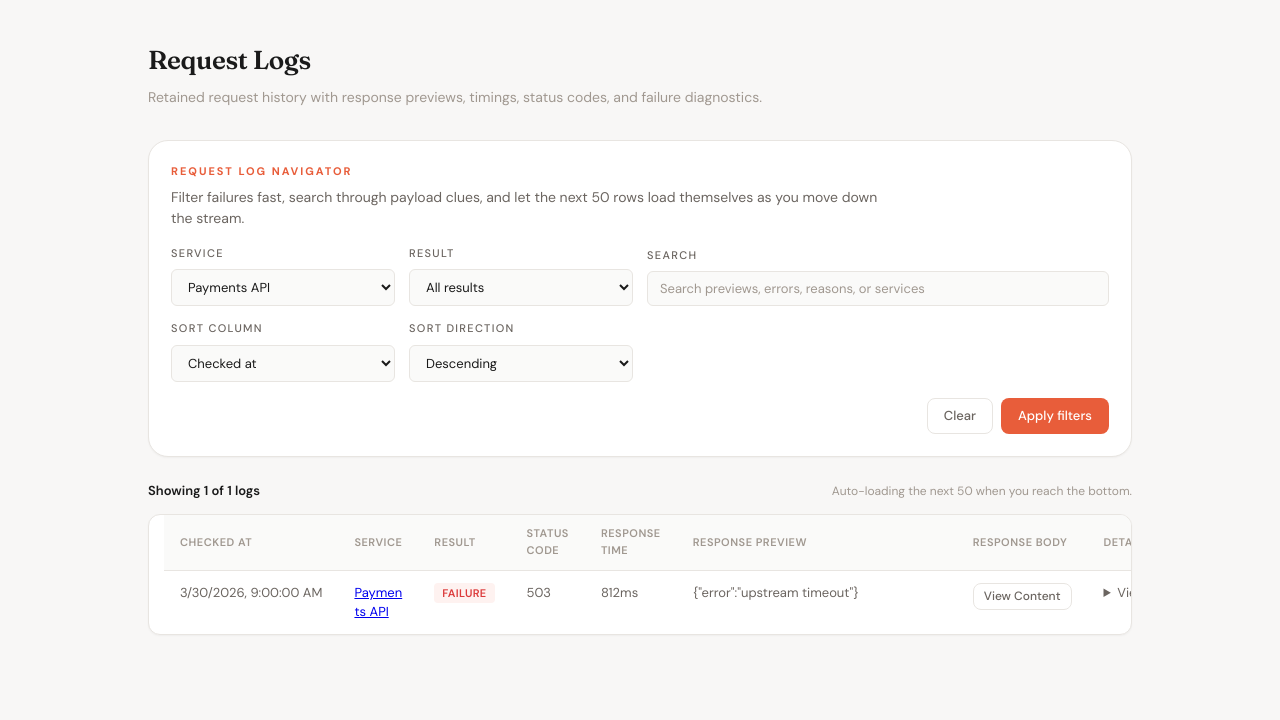
RequestLogsPage › shows request log details including response, time, and status code
Expected: the link "Payments API" is shown, [354, 584, 402, 620]
Expected: the text "503" is shown, [510, 570, 585, 634]
Step 1. Click the button "View Content" → (1022, 596), box [973, 583, 1072, 610]
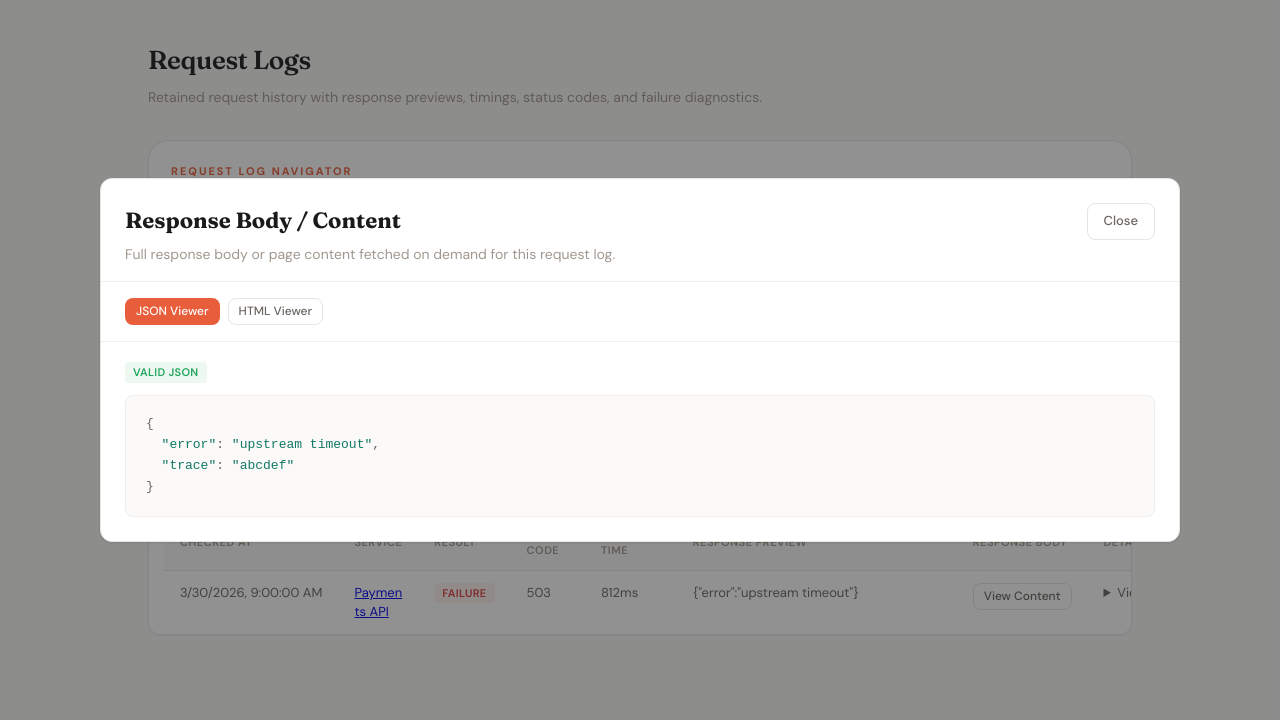
Now the heading "Response Body / Content" is shown, box [125, 206, 401, 234]
Now the text "Valid JSON" is shown, box [125, 362, 206, 383]
Now the text "\"trace\"" is shown, box [162, 458, 216, 473]
